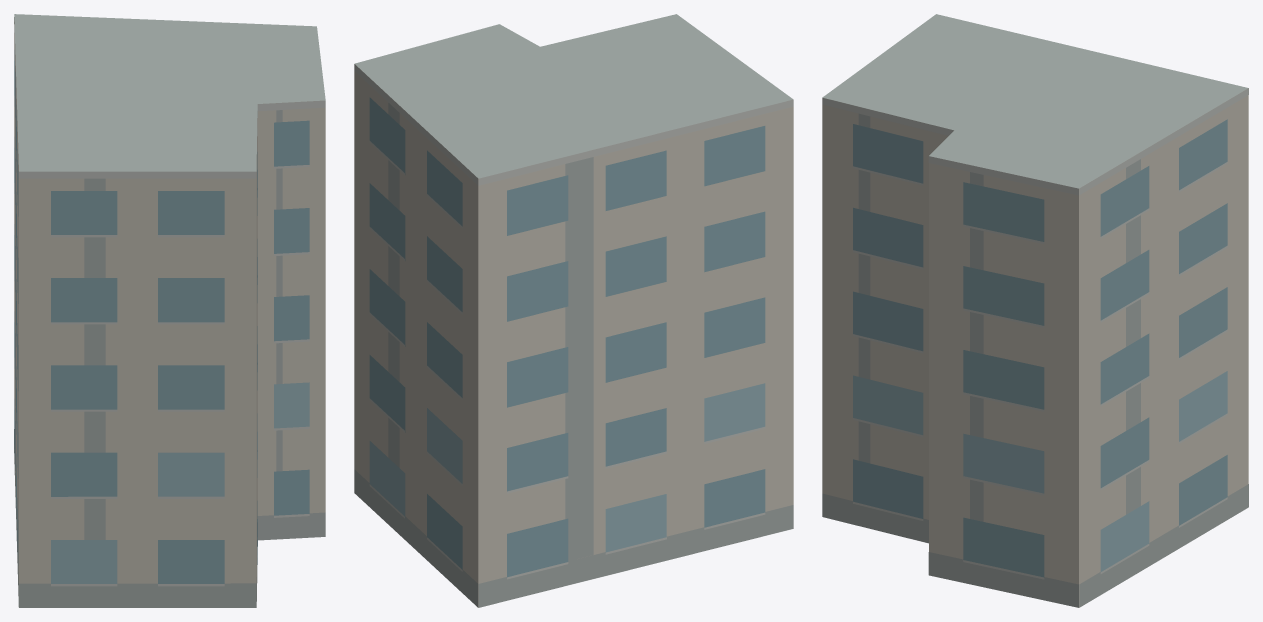
Rendered from survey-upis-33029309.glb.
The picture shows the model from 3 angles, left to right: view 1: azimuth 30°, elevation 25°; view 2: azimuth 150°, elevation 25°; view 3: azimuth 270°, elevation 25°; orthographic projection. The views are drawn at different scales.
Visible parts, largest first — view 1: survey-upis-33029309.tmp; view 2: survey-upis-33029309.tmp; view 3: survey-upis-33029309.tmp.
Part boxes in pixels (bbox=[...]): survey-upis-33029309.tmp: bbox=[14, 14, 325, 607]; survey-upis-33029309.tmp: bbox=[354, 14, 793, 607]; survey-upis-33029309.tmp: bbox=[822, 14, 1248, 607].
Size of the model in its own units: 13.14 by 14.7 by 13.56.
